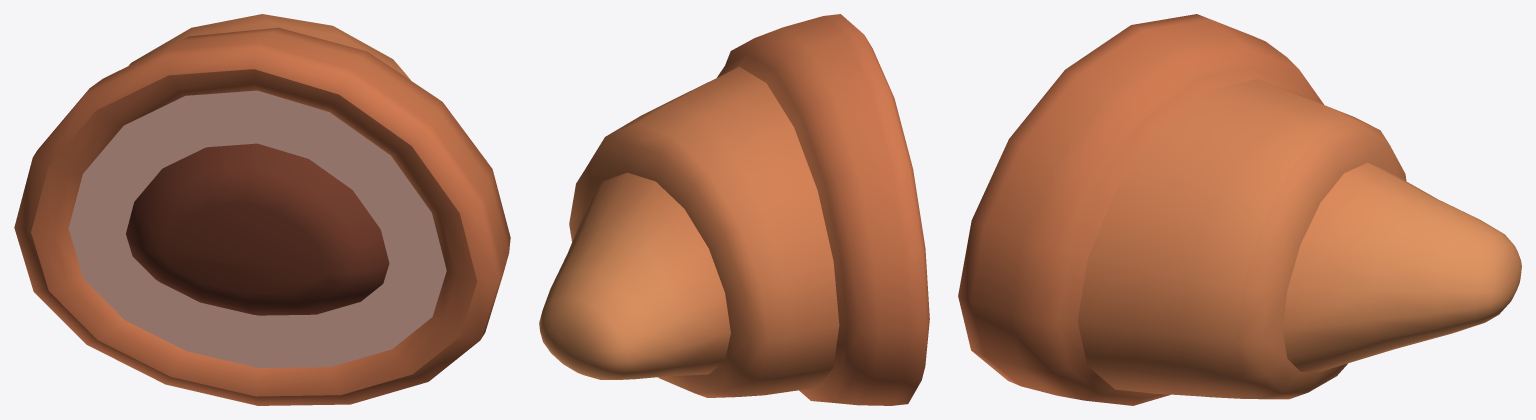
File: Croissant_Slice_V1_01.fbx
3 views of the same model, side by side, from view 1: azimuth 30°, elevation 25°; view 2: azimuth 150°, elevation 25°; view 3: azimuth 270°, elevation 25° (orthographic). The views are drawn at different scales.
Parts seen in each view (by area): view 1: Croissant_Slice_V1_01; view 2: Croissant_Slice_V1_01; view 3: Croissant_Slice_V1_01.
Part boxes in pixels (bbox=[...]): Croissant_Slice_V1_01: bbox=[14, 14, 510, 405]; Croissant_Slice_V1_01: bbox=[539, 14, 929, 405]; Croissant_Slice_V1_01: bbox=[958, 14, 1521, 405].
Bounding box in the file's own units: 36.23 × 30.87 × 45.58.
